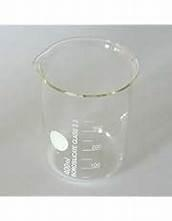Beaker: (35, 39, 129, 187)
